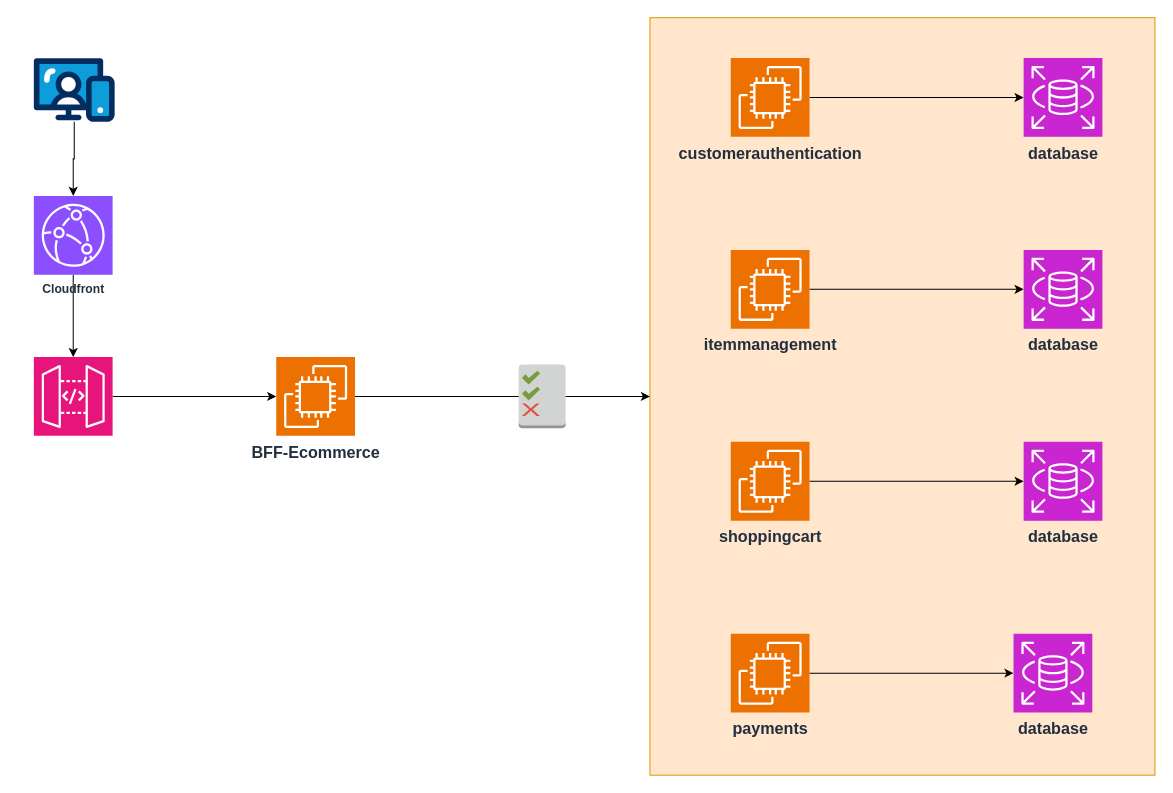
Image size: 1173x793. Some labels were removed from this diagram. Here are the shapes that lost their labels. From the top down, the centre of each, then its label:
At [73,396]: "API-GATEWAY".
At [542,396]: "Spring Security".
